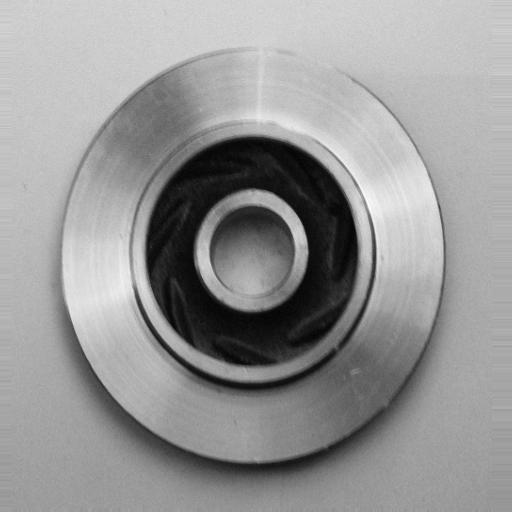unpolished_casting: (59, 45, 445, 468)
